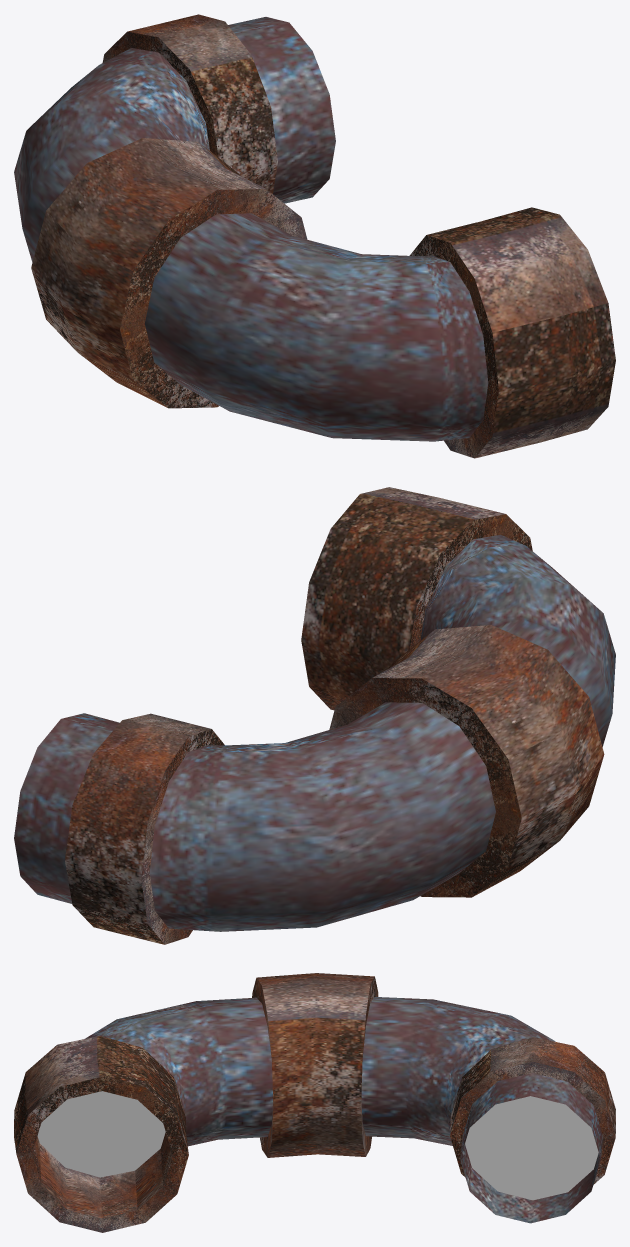
The model's file is TPE 3_FBX.fbx.
3 renders of one model, top to bottom at view 1: azimuth 30°, elevation 25°; view 2: azimuth 150°, elevation 25°; view 3: azimuth 270°, elevation 25°, orthographic. The views are drawn at different scales.
Parts seen in each view (by area): view 1: Tubería plataforma estática corta 1; view 2: Tubería plataforma estática corta 1; view 3: Tubería plataforma estática corta 1.
Boxes of the visible parts, x1,y1,x2,y2 form: Tubería plataforma estática corta 1: (14,14,615,458); Tubería plataforma estática corta 1: (14,487,615,944); Tubería plataforma estática corta 1: (14,973,615,1232).
Size of the model in its own units: 315 by 177 by 591.
